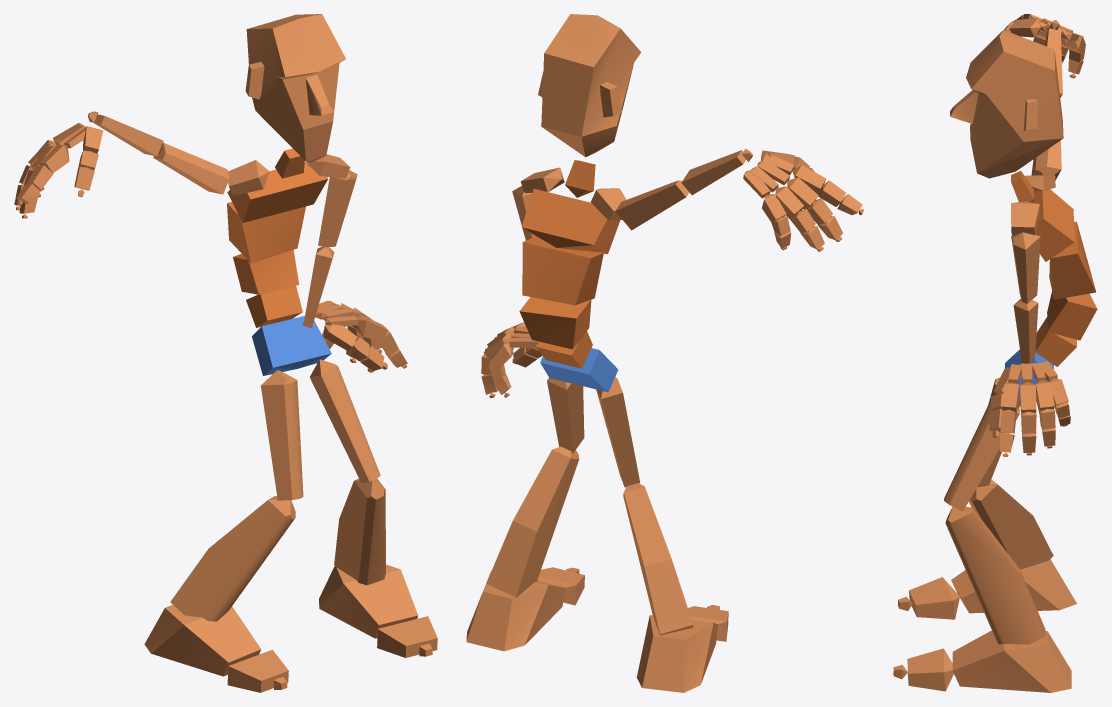
3 views of the same model, side by side, from view 1: azimuth 30°, elevation 25°; view 2: azimuth 150°, elevation 25°; view 3: azimuth 270°, elevation 25° (orthographic). The views are drawn at different scales.
Visible parts, largest first — view 1: BOPED_Head, BOPED_R_leg, BOPED_R_foot, BOPED_L_leg, BOPED_R_foot01, BOPED_R_legup, BOPED_L_legup, Bone01, Bone04, Bone05, Bone03, BOPED_R_arm_upper (+8 smaller); view 2: BOPED_Head, BOPED_L_leg, BOPED_R_leg, BOPED_R_foot01, BOPED_R_foot, Bone04, Bone05, Bone03, BOPED_R_legup, BOPED_L_legup, Bone01, BOPED_R_arm_upper (+7 smaller); view 3: BOPED_Head, BOPED_L_leg, BOPED_R_foot01, BOPED_R_leg, BOPED_R_foot, BOPED_L_legup, Bone05, Bone04, Bone03, BOPED_R_foot_toe01, BOPED_L_arm_upper, BOPED_R_foot_toe04 (+16 smaller).
Part boxes in pixels (x1=…): BOPED_Head: x1=245, y1=14, x2=345, y2=162; BOPED_R_leg: x1=170, y1=496, x2=295, y2=621; BOPED_R_foot: x1=144, y1=604, x2=261, y2=676; BOPED_L_leg: x1=334, y1=478, x2=385, y2=585; BOPED_R_foot01: x1=319, y1=564, x2=418, y2=638; BOPED_R_legup: x1=260, y1=370, x2=303, y2=500; BOPED_L_legup: x1=309, y1=359, x2=380, y2=483; Bone01: x1=252, y1=316, x2=331, y2=375; Bone04: x1=227, y1=202, x2=305, y2=263; Bone05: x1=227, y1=161, x2=327, y2=222; Bone03: x1=233, y1=249, x2=299, y2=294; BOPED_R_arm_upper: x1=153, y1=142, x2=230, y2=194; BOPED_Head: x1=538, y1=14, x2=641, y2=157; BOPED_L_leg: x1=486, y1=446, x2=579, y2=597; BOPED_R_leg: x1=623, y1=483, x2=693, y2=635; BOPED_R_foot01: x1=466, y1=571, x2=565, y2=651; BOPED_R_foot: x1=636, y1=615, x2=717, y2=692; Bone04: x1=522, y1=236, x2=603, y2=305; Bone05: x1=521, y1=188, x2=620, y2=254; Bone03: x1=519, y1=297, x2=591, y2=349; BOPED_R_legup: x1=596, y1=377, x2=640, y2=487; BOPED_L_legup: x1=547, y1=378, x2=584, y2=453; Bone01: x1=540, y1=348, x2=618, y2=392; BOPED_R_arm_upper: x1=615, y1=180, x2=689, y2=230; BOPED_Head: x1=950, y1=30, x2=1063, y2=178; BOPED_L_leg: x1=945, y1=507, x2=1045, y2=644; BOPED_R_foot01: x1=952, y1=630, x2=1071, y2=692; BOPED_R_leg: x1=969, y1=479, x2=1053, y2=569; BOPED_R_foot: x1=951, y1=559, x2=1076, y2=613; BOPED_L_legup: x1=944, y1=400, x2=1019, y2=511; Bone05: x1=1033, y1=189, x2=1074, y2=261; Bone04: x1=1049, y1=221, x2=1095, y2=299; Bone03: x1=1047, y1=291, x2=1097, y2=340; BOPED_R_foot_toe01: x1=909, y1=577, x2=959, y2=619; BOPED_L_arm_upper: x1=1011, y1=232, x2=1040, y2=303; BOPED_R_foot_toe04: x1=907, y1=648, x2=953, y2=691.
Bounding box in the file's own units: 120 × 186 × 56.5.
